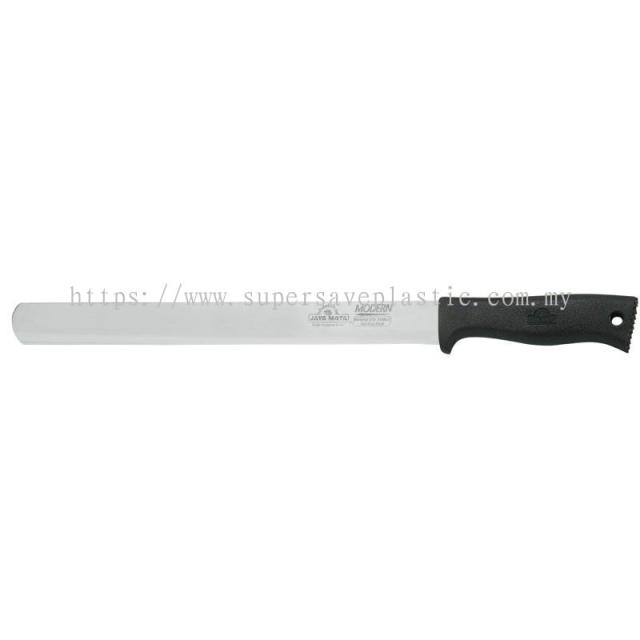Knife: (13, 285, 638, 354)
